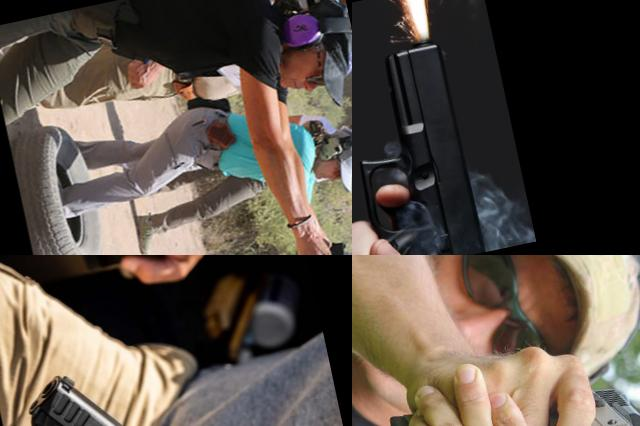handgun: (352, 30, 494, 255), (379, 346, 640, 426), (6, 343, 232, 426)
